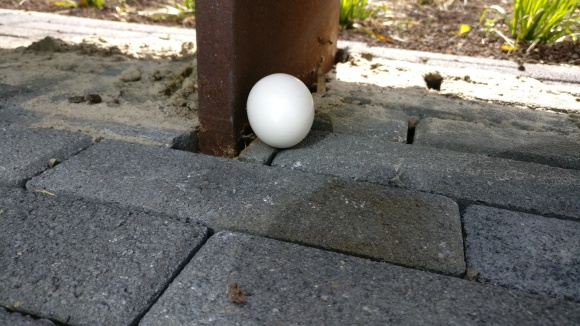egg: (244, 71, 317, 150)
